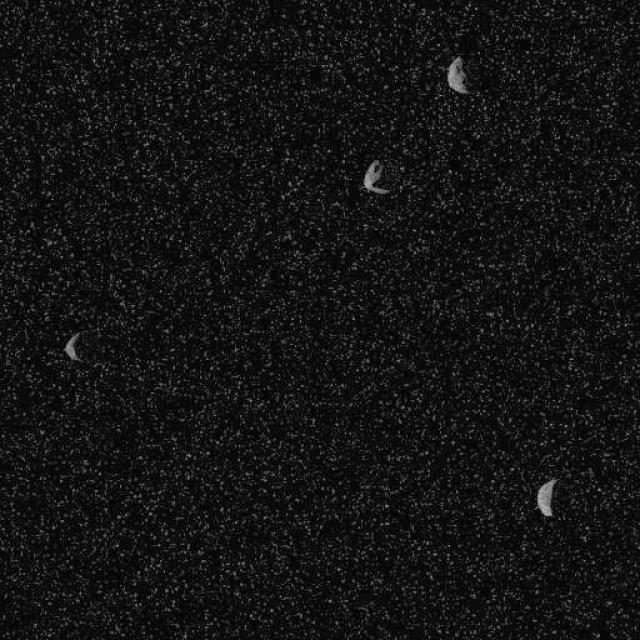D2: (361, 157, 390, 195), (445, 55, 471, 95), (535, 477, 556, 518), (62, 330, 84, 362)
